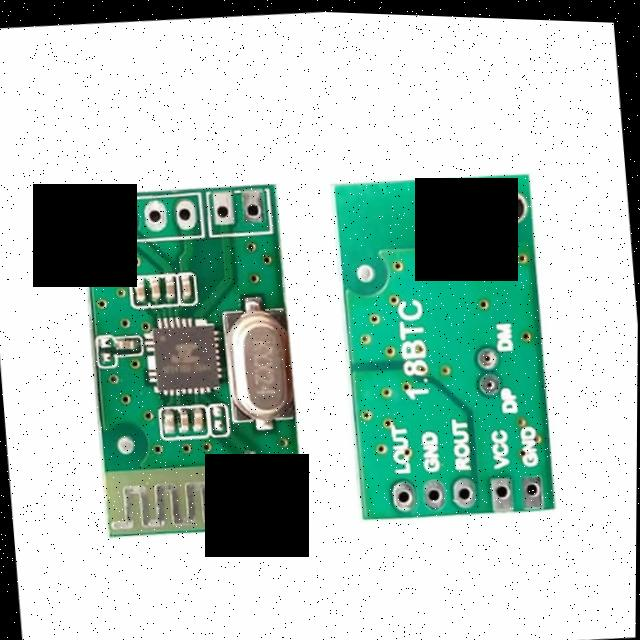IC: (143, 309, 222, 397)
capacitor 1V5: (179, 270, 193, 298), (161, 409, 176, 431), (162, 274, 176, 296), (147, 275, 161, 296), (133, 275, 145, 298), (191, 408, 205, 427), (115, 336, 135, 349), (179, 406, 189, 429)
clock Q1: (222, 298, 293, 429)
